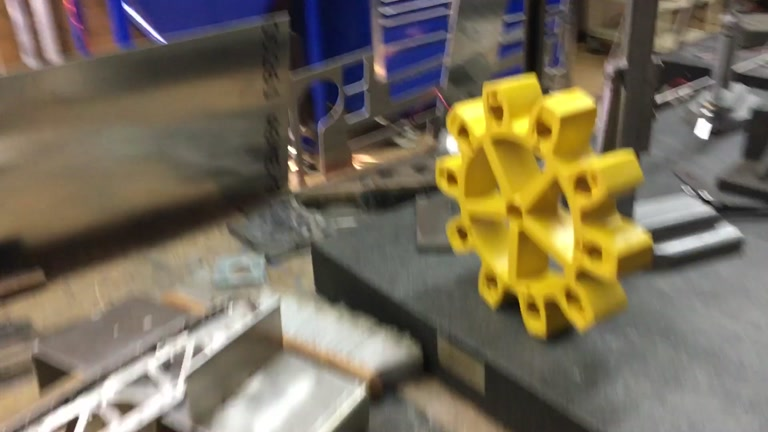gear: (434, 71, 654, 343)
